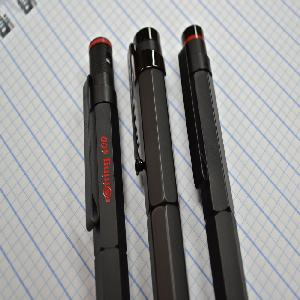pen: (79, 23, 254, 300)
